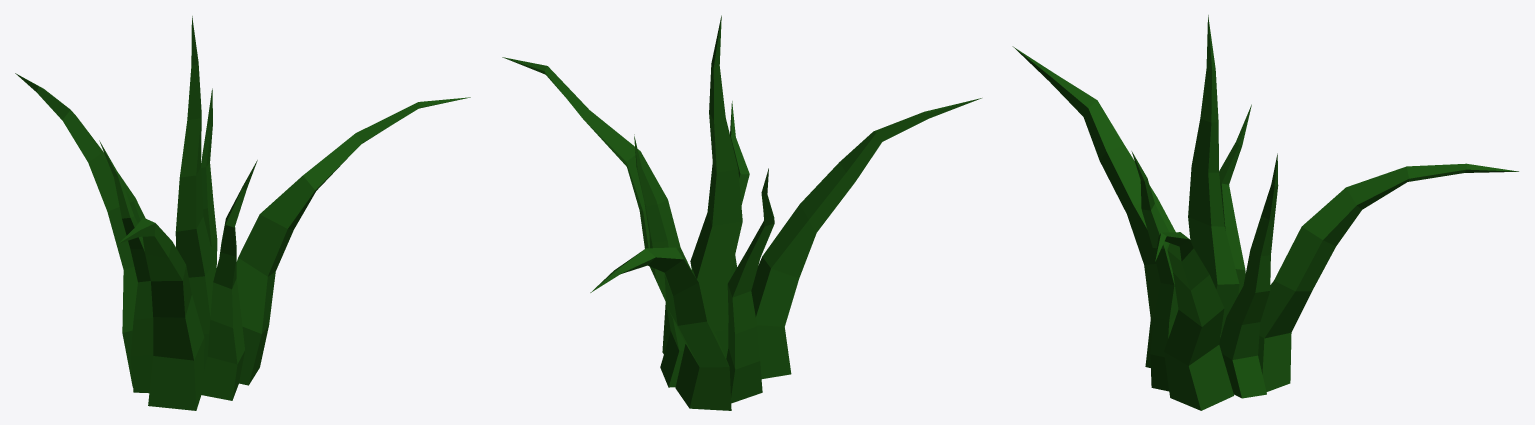
Rendered from grass_2_1.fbx.
3 views of the same model, side by side, from view 1: azimuth 30°, elevation 25°; view 2: azimuth 150°, elevation 25°; view 3: azimuth 270°, elevation 25° (orthographic). The views are drawn at different scales.
Visible parts, largest first — view 1: Cone008, Cone007, Cone010, Cone013, Cone009, Cone011, Cone012; view 2: Cone007, Cone010, Cone009, Cone011, Cone008, Cone012, Cone013; view 3: Cone009, Cone008, Cone010, Cone007, Cone012, Cone013, Cone011.
Boxes of the visible parts, x1,y1,x2,y2 form: Cone008: (236,97,470,385); Cone007: (118,217,204,410); Cone010: (175,16,215,372); Cone013: (201,160,257,400); Cone009: (15,73,145,386); Cone011: (99,140,153,393); Cone012: (201,88,217,271); Cone007: (751,98,981,378); Cone010: (690,15,742,358); Cone009: (590,247,731,410); Cone011: (726,168,774,403); Cone008: (502,57,689,354); Cone012: (634,134,685,387); Cone013: (730,101,749,277); Cone009: (1258,163,1518,391); Cone008: (1155,232,1233,410); Cone010: (1188,15,1239,337); Cone007: (1012,46,1175,367); Cone012: (1219,153,1278,398); Cone013: (1131,151,1178,391); Cone011: (1219,104,1251,294).
Size of the model in its own units: 61.22 by 52.59 by 63.49.
